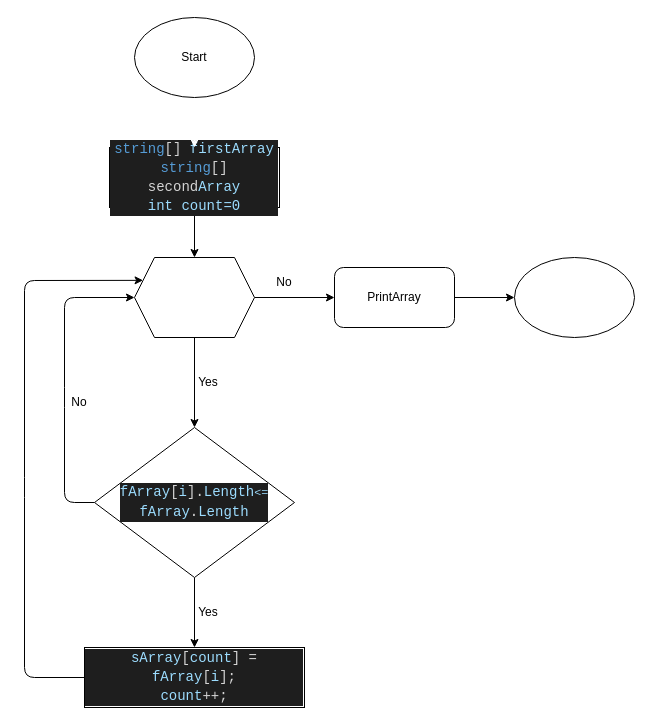
The diagram is 652 pixels wide and 725 high, and some of its shapes have lost their labels. Here are the shapes that lost their labels. From the top down, the centre of each, then its label:
At [194,297]: "for int i=0 i<fArray.Length i++".
At [574,297]: "End".
